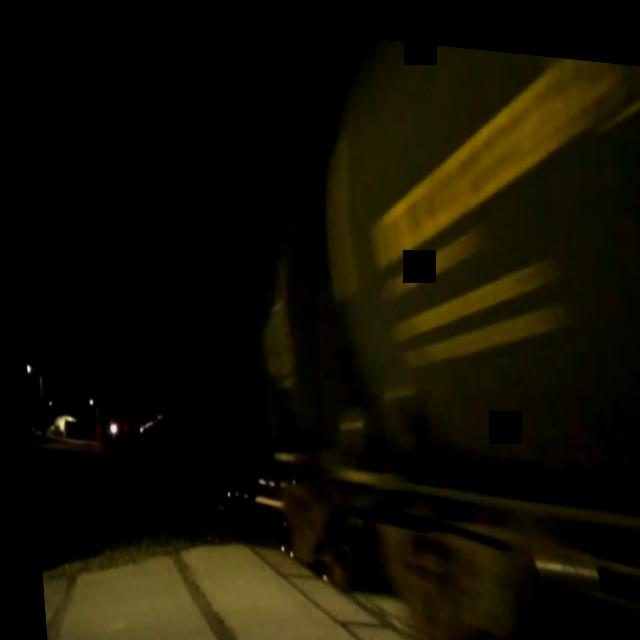tank: (303, 25, 640, 640)
